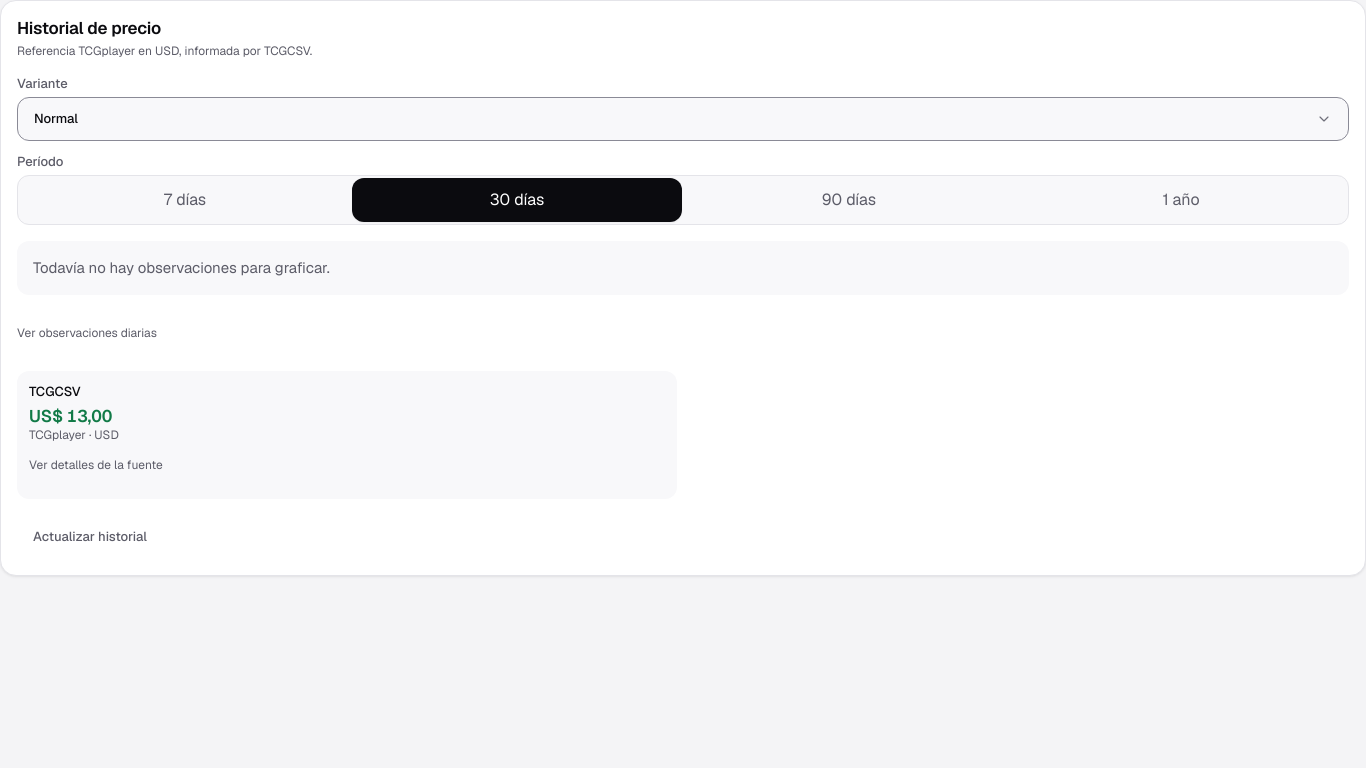
Test: CardComparisonPanel › no muestra el precio de la variante anterior mientras carga la nueva
Click the dropdown named "Variante de la carta del historial" at (56, 118), box [17,97,1349,141]
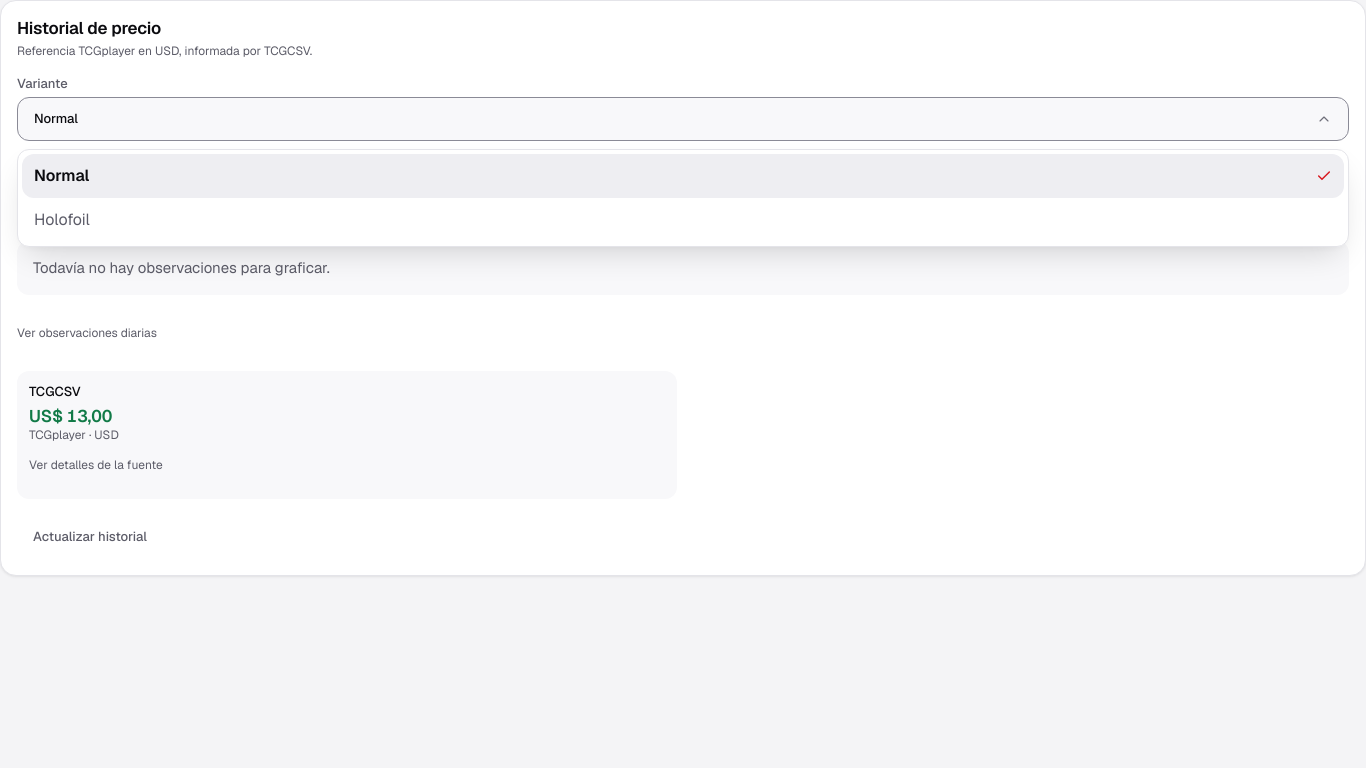
Click the option "Holofoil" at (62, 220), box [34,209,90,230]
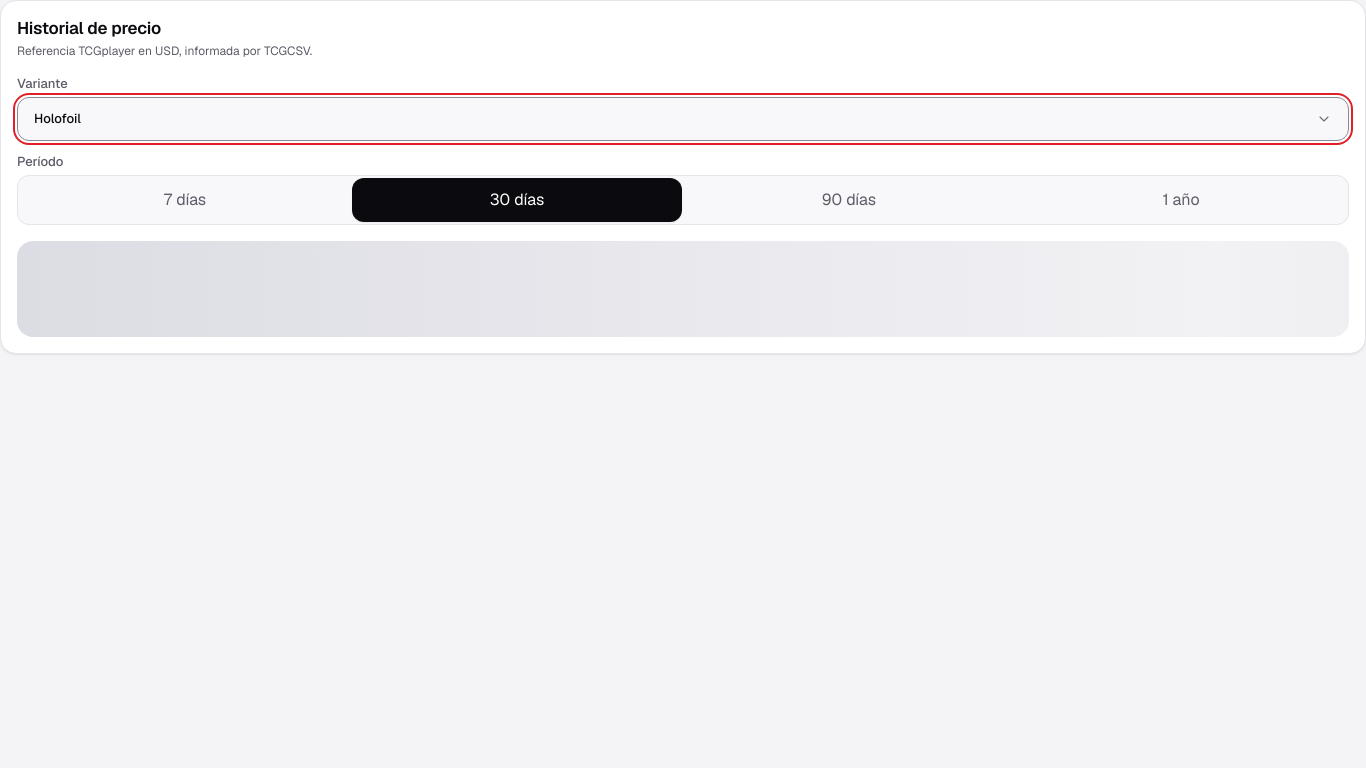
Expected: the message named "Cargando historial" is shown, [17,241,1349,337]
